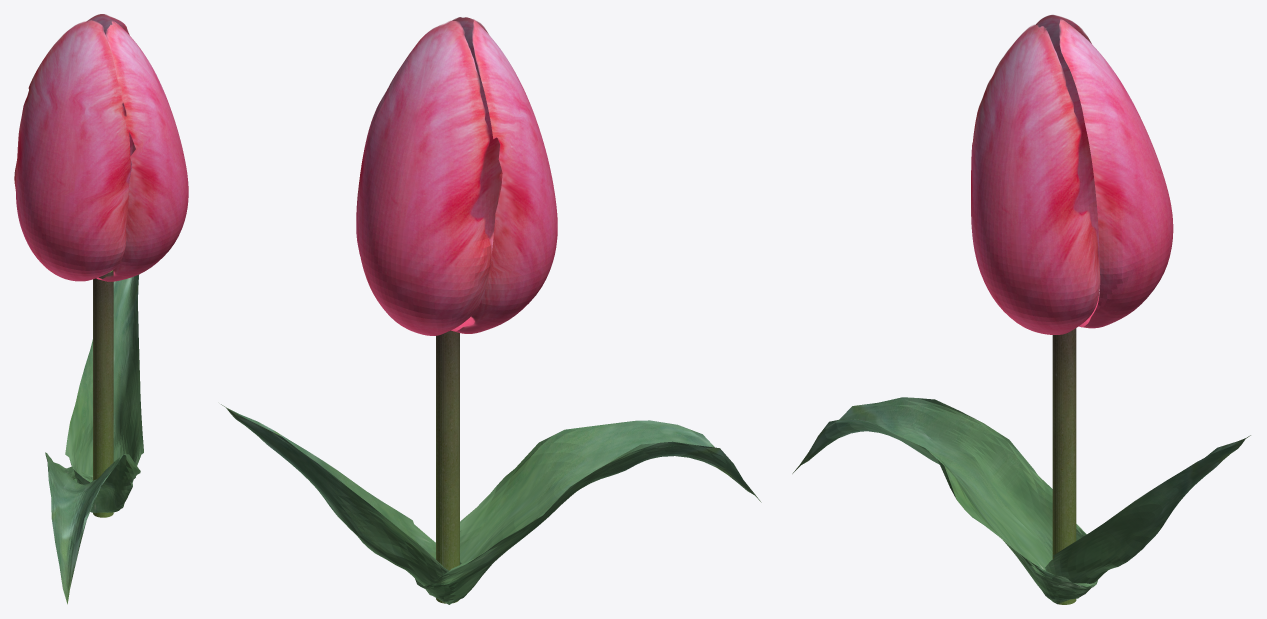
The model's file is tulip.glb.
3 renders of one model, left to right at view 1: azimuth 30°, elevation 25°; view 2: azimuth 150°, elevation 25°; view 3: azimuth 270°, elevation 25°, orthographic. The views are drawn at different scales.
Parts seen in each view (by area): view 1: Object_7, Object_5, Object_2, Object_3, Object_4, Object_6; view 2: Object_6, Object_3, Object_7, Object_2, Object_4, Object_5; view 3: Object_5, Object_6, Object_3, Object_2, Object_4, Object_7.
Part boxes in pixels (x1,y1,x2,y2): Object_7: (15, 20, 130, 281); Object_5: (96, 21, 188, 281); Object_2: (65, 274, 143, 484); Object_3: (45, 452, 140, 604); Object_4: (93, 270, 113, 517); Object_6: (14, 14, 135, 189); Object_6: (356, 20, 491, 335); Object_3: (415, 420, 761, 604); Object_7: (451, 19, 557, 333); Object_2: (221, 404, 461, 585); Object_4: (436, 330, 459, 603); Object_5: (452, 17, 501, 238); Object_5: (971, 24, 1100, 334); Object_6: (1059, 19, 1173, 328); Object_3: (792, 397, 1097, 604); Object_2: (1045, 435, 1250, 583); Object_4: (1052, 328, 1076, 604); Object_7: (1035, 14, 1099, 270).
Size of the model in its own units: 4.57 by 8.02 by 5.81.
3 materials, 3 textured.
